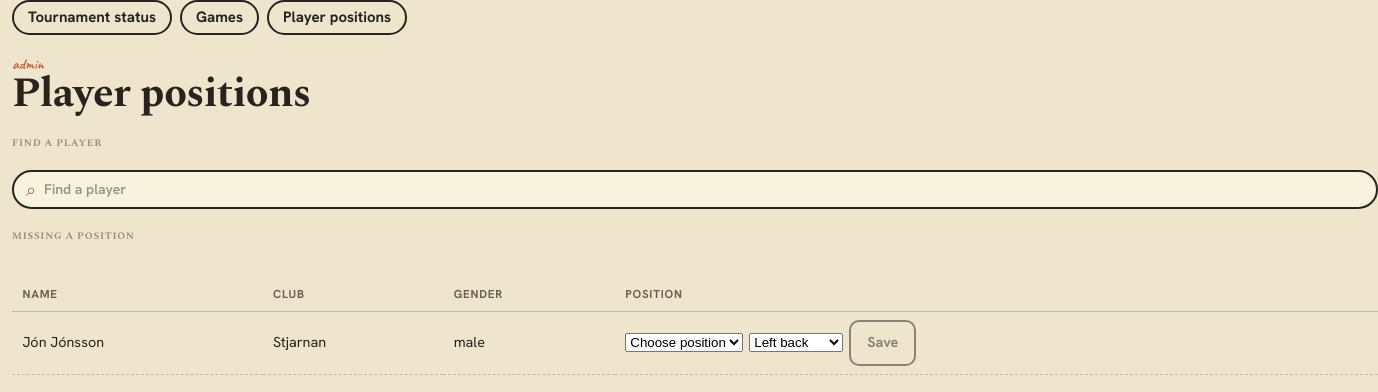
Test case: saving a position from the worklist sends both positions and the row drops off immediately
Select "Left wing" in the dropdown named "Position": (684, 343) [625,333,743,352]
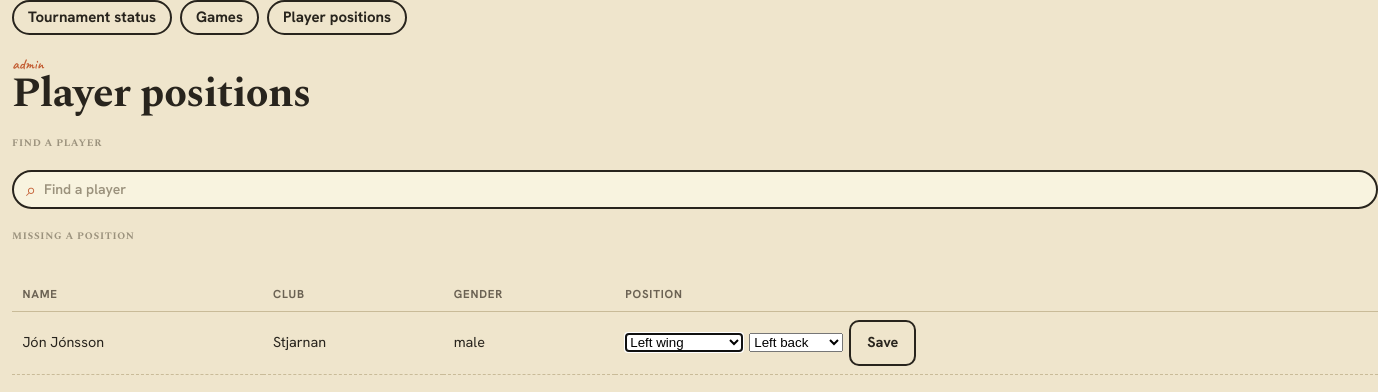
Click the button "Save": (883, 343) [849,320,916,366]
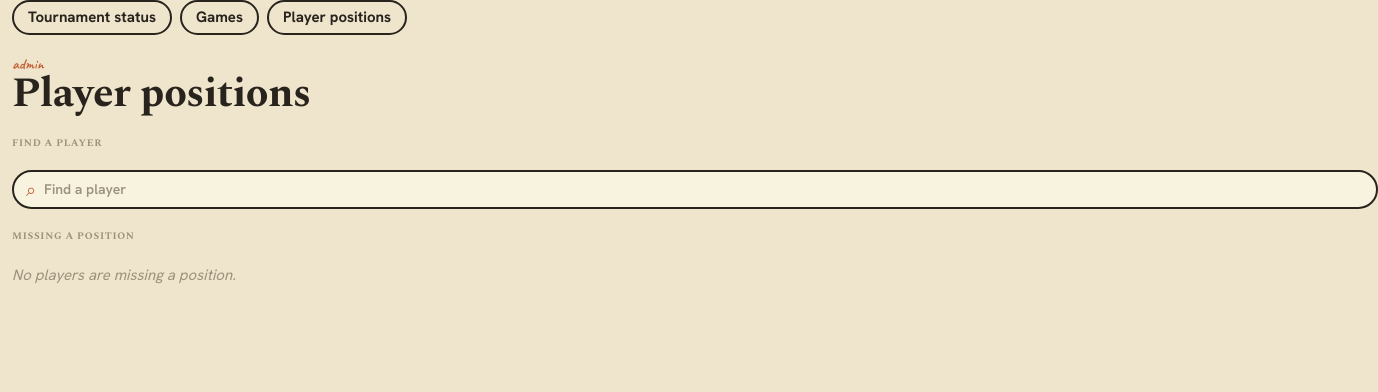
Now the text "Jón Jónsson" is gone
